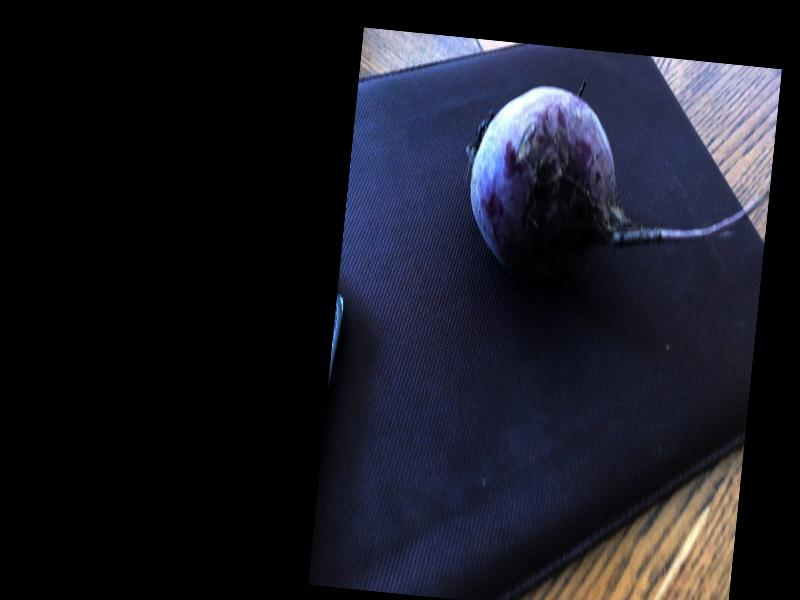Beet: (461, 80, 775, 300)
